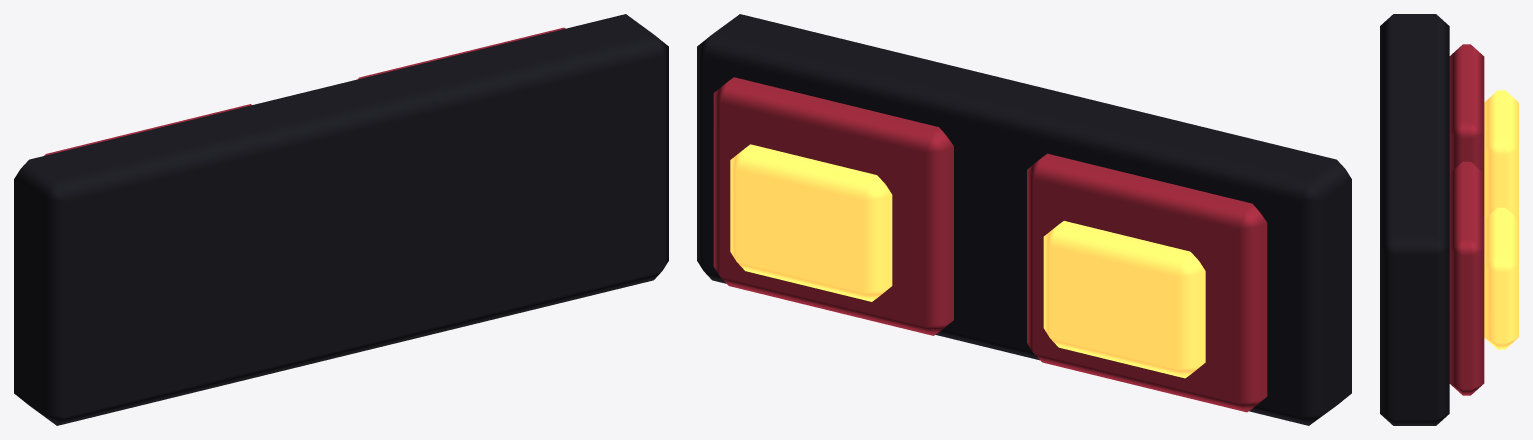
The model's file is canopy.nav.deck.glb.
3 views of the same model, side by side, from view 1: azimuth 30°, elevation 25°; view 2: azimuth 150°, elevation 25°; view 3: azimuth 270°, elevation 25° (orthographic). The views are drawn at different scales.
Parts seen in each view (by area): view 1: canopy.nav.deck; view 2: canopy.nav.deck; view 3: canopy.nav.deck.
Part boxes in pixels (x1,y1,x2,y2): canopy.nav.deck: (14, 14, 668, 425); canopy.nav.deck: (697, 14, 1351, 425); canopy.nav.deck: (1380, 14, 1518, 425).
Size of the model in its own units: 0.5 by 0.1875 by 0.125.
